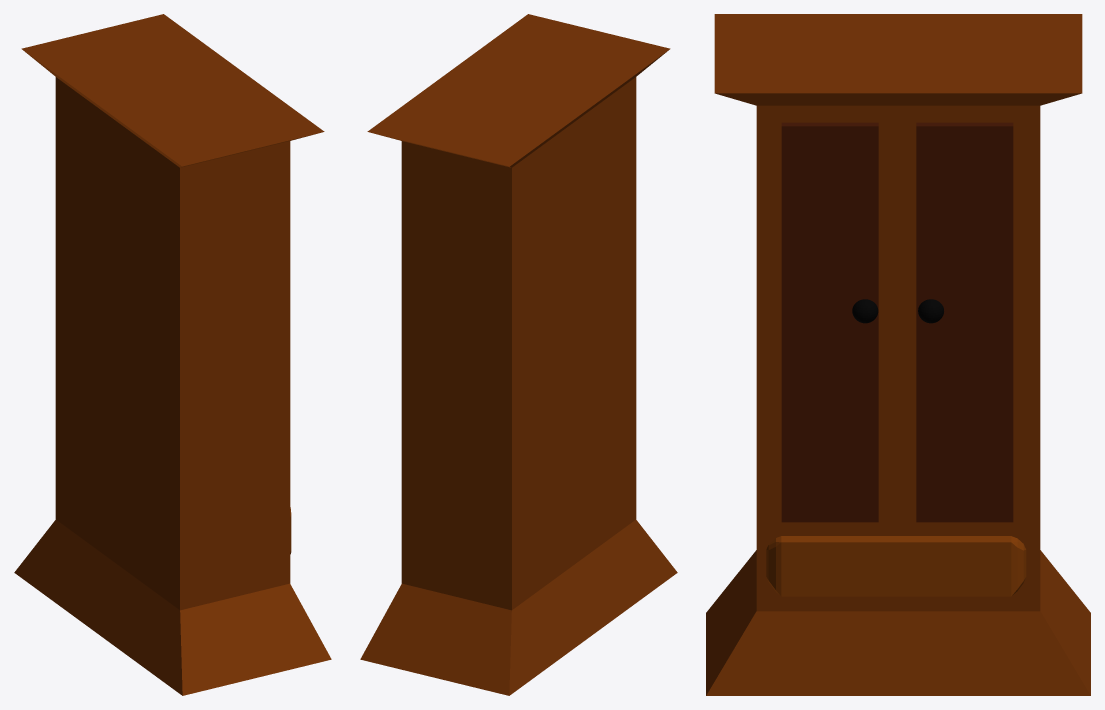
The model's file is Cabinet_Wardrobe.fbx.
The picture shows the model from 3 angles, left to right: view 1: azimuth 30°, elevation 25°; view 2: azimuth 150°, elevation 25°; view 3: azimuth 270°, elevation 25°; orthographic projection. The views are drawn at different scales.
Visible parts, largest first — view 1: Cabinet/wardrobe; view 2: Cabinet/wardrobe; view 3: Cabinet/wardrobe.
Part boxes in pixels (x1,y1,x2,y2): Cabinet/wardrobe: (14, 14, 331, 695); Cabinet/wardrobe: (360, 14, 677, 695); Cabinet/wardrobe: (706, 14, 1090, 695).
Size of the model in its own units: 405 by 1365 by 792.
